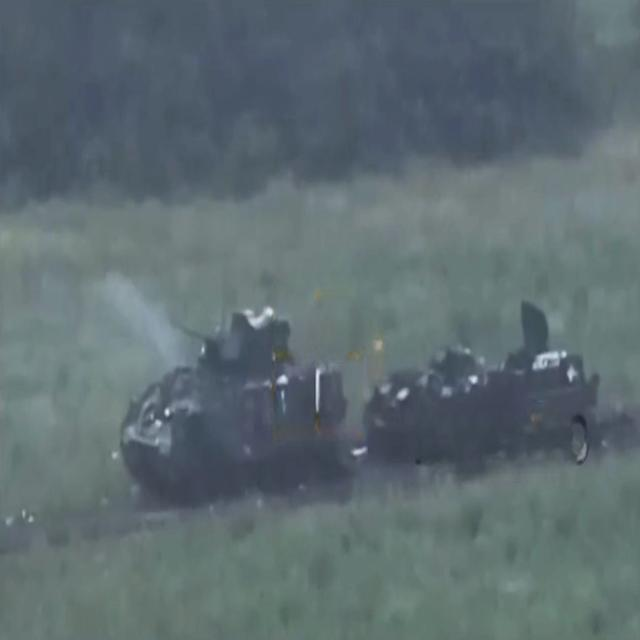AIFV: (121, 306, 350, 523)
Destroyed: (363, 309, 606, 471)
